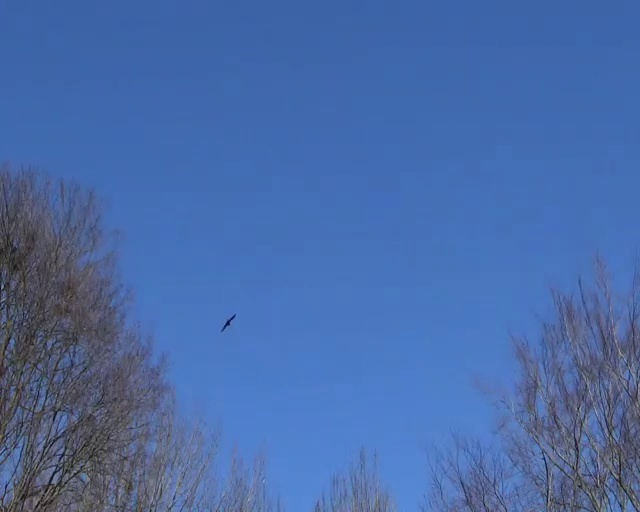BIRD: (221, 313, 236, 332)
